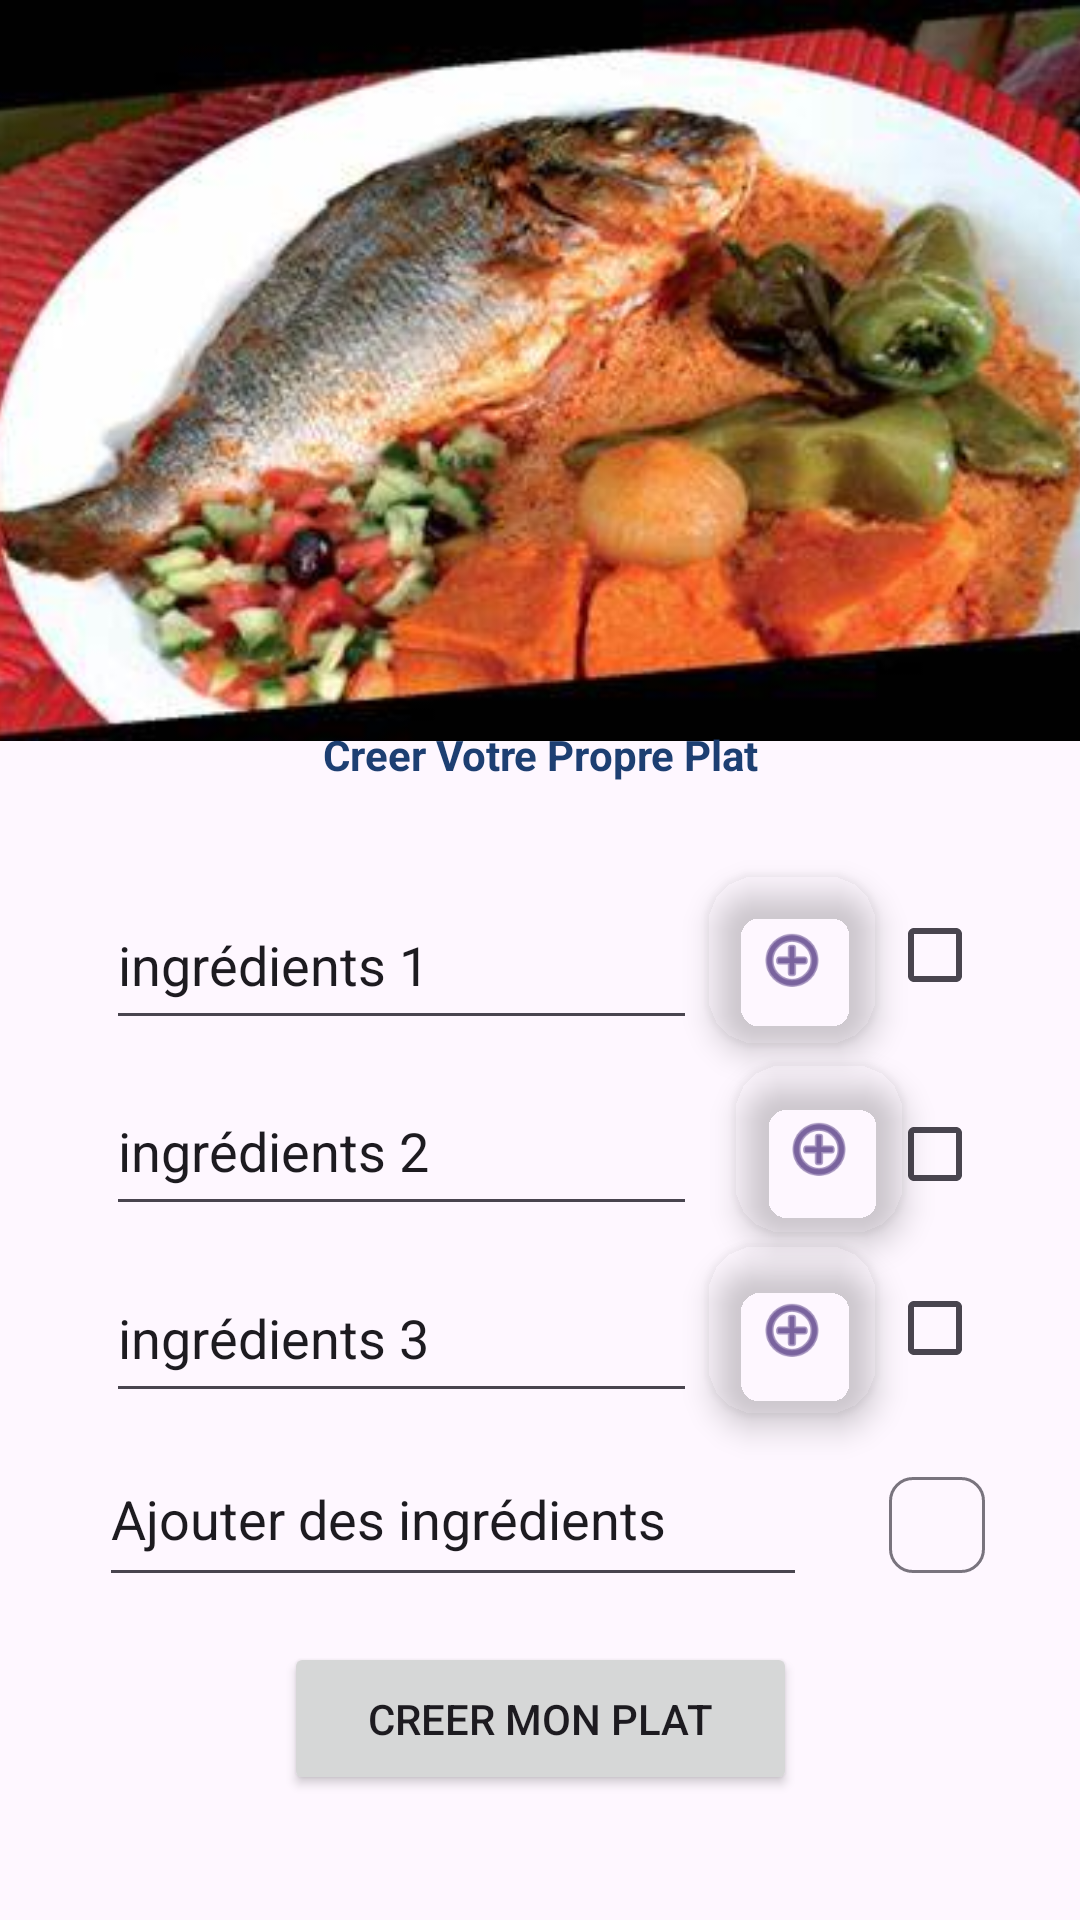

Icons on this 1080 x 1920 Android screen, each with the point to tap as [x,y]:
add: [794,970], [819,1149], [792,1330]
